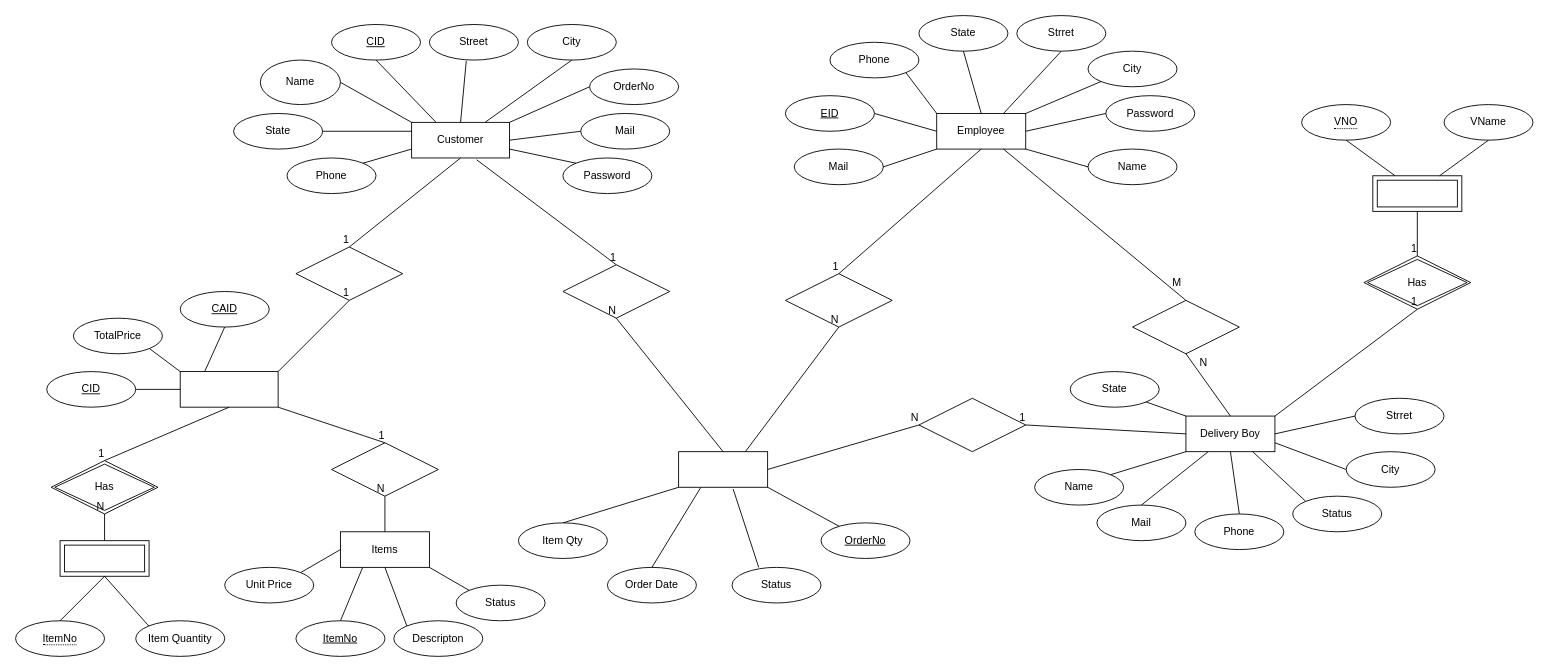
This 1549x672 diagram has some shape labels left out. The centre of each missing label's shape, as x and y in pixels:
"Adds To" goes at [349,273].
"Assign" goes at [1185,326].
"Cart" goes at [228,389].
"Cart Items" goes at [104,558].
"Delivered By" goes at [972,424].
"Order" goes at [723,469].
"Orders" goes at [616,291].
"Stores" goes at [384,469].
"Vehicle" goes at [1417,193].
"Verifies" goes at [838,300].
